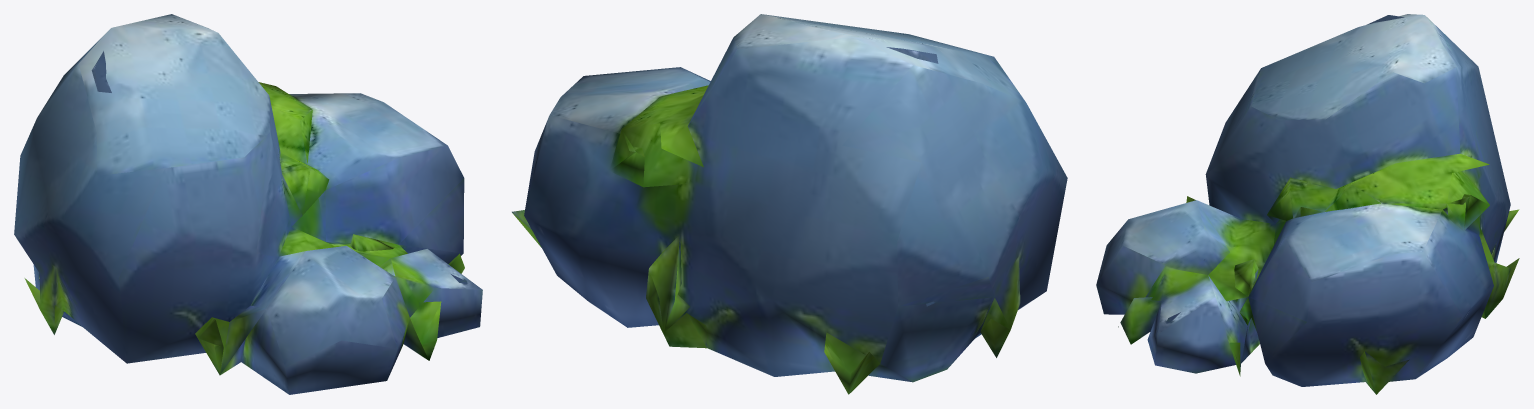
Rendered from rocks_small-BHi38Xvu.glb.
3 views of the same model, side by side, from view 1: azimuth 30°, elevation 25°; view 2: azimuth 150°, elevation 25°; view 3: azimuth 270°, elevation 25° (orthographic). The views are drawn at different scales.
Visible parts, largest first — view 1: rocks_small; view 2: rocks_small; view 3: rocks_small.
Part boxes in pixels (left/top/right/bottom): rocks_small: left=14, top=14, right=482, bottom=394; rocks_small: left=512, top=14, right=1067, bottom=394; rocks_small: left=1096, top=14, right=1519, bottom=394.
Bounding box in the file's own units: 1.26 × 0.8 × 1.21.
Materials: 1 (1 with a texture image).
